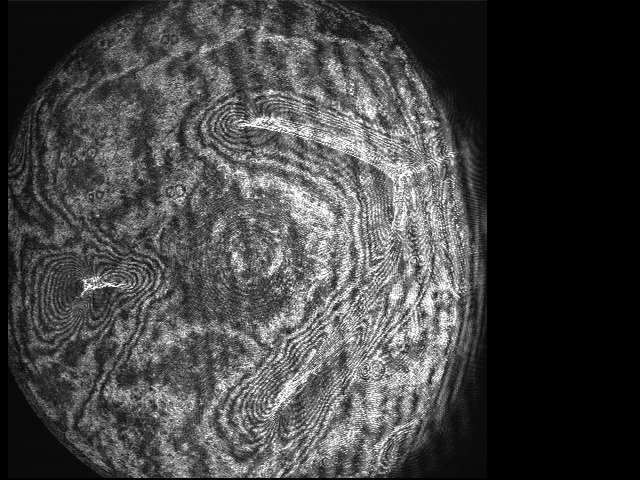plume: (34, 252, 165, 335)
